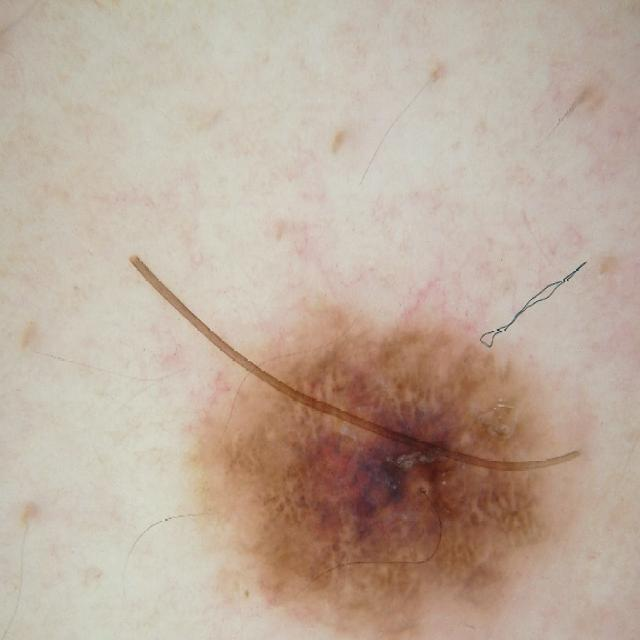Melanoma: (197, 232, 573, 640)
